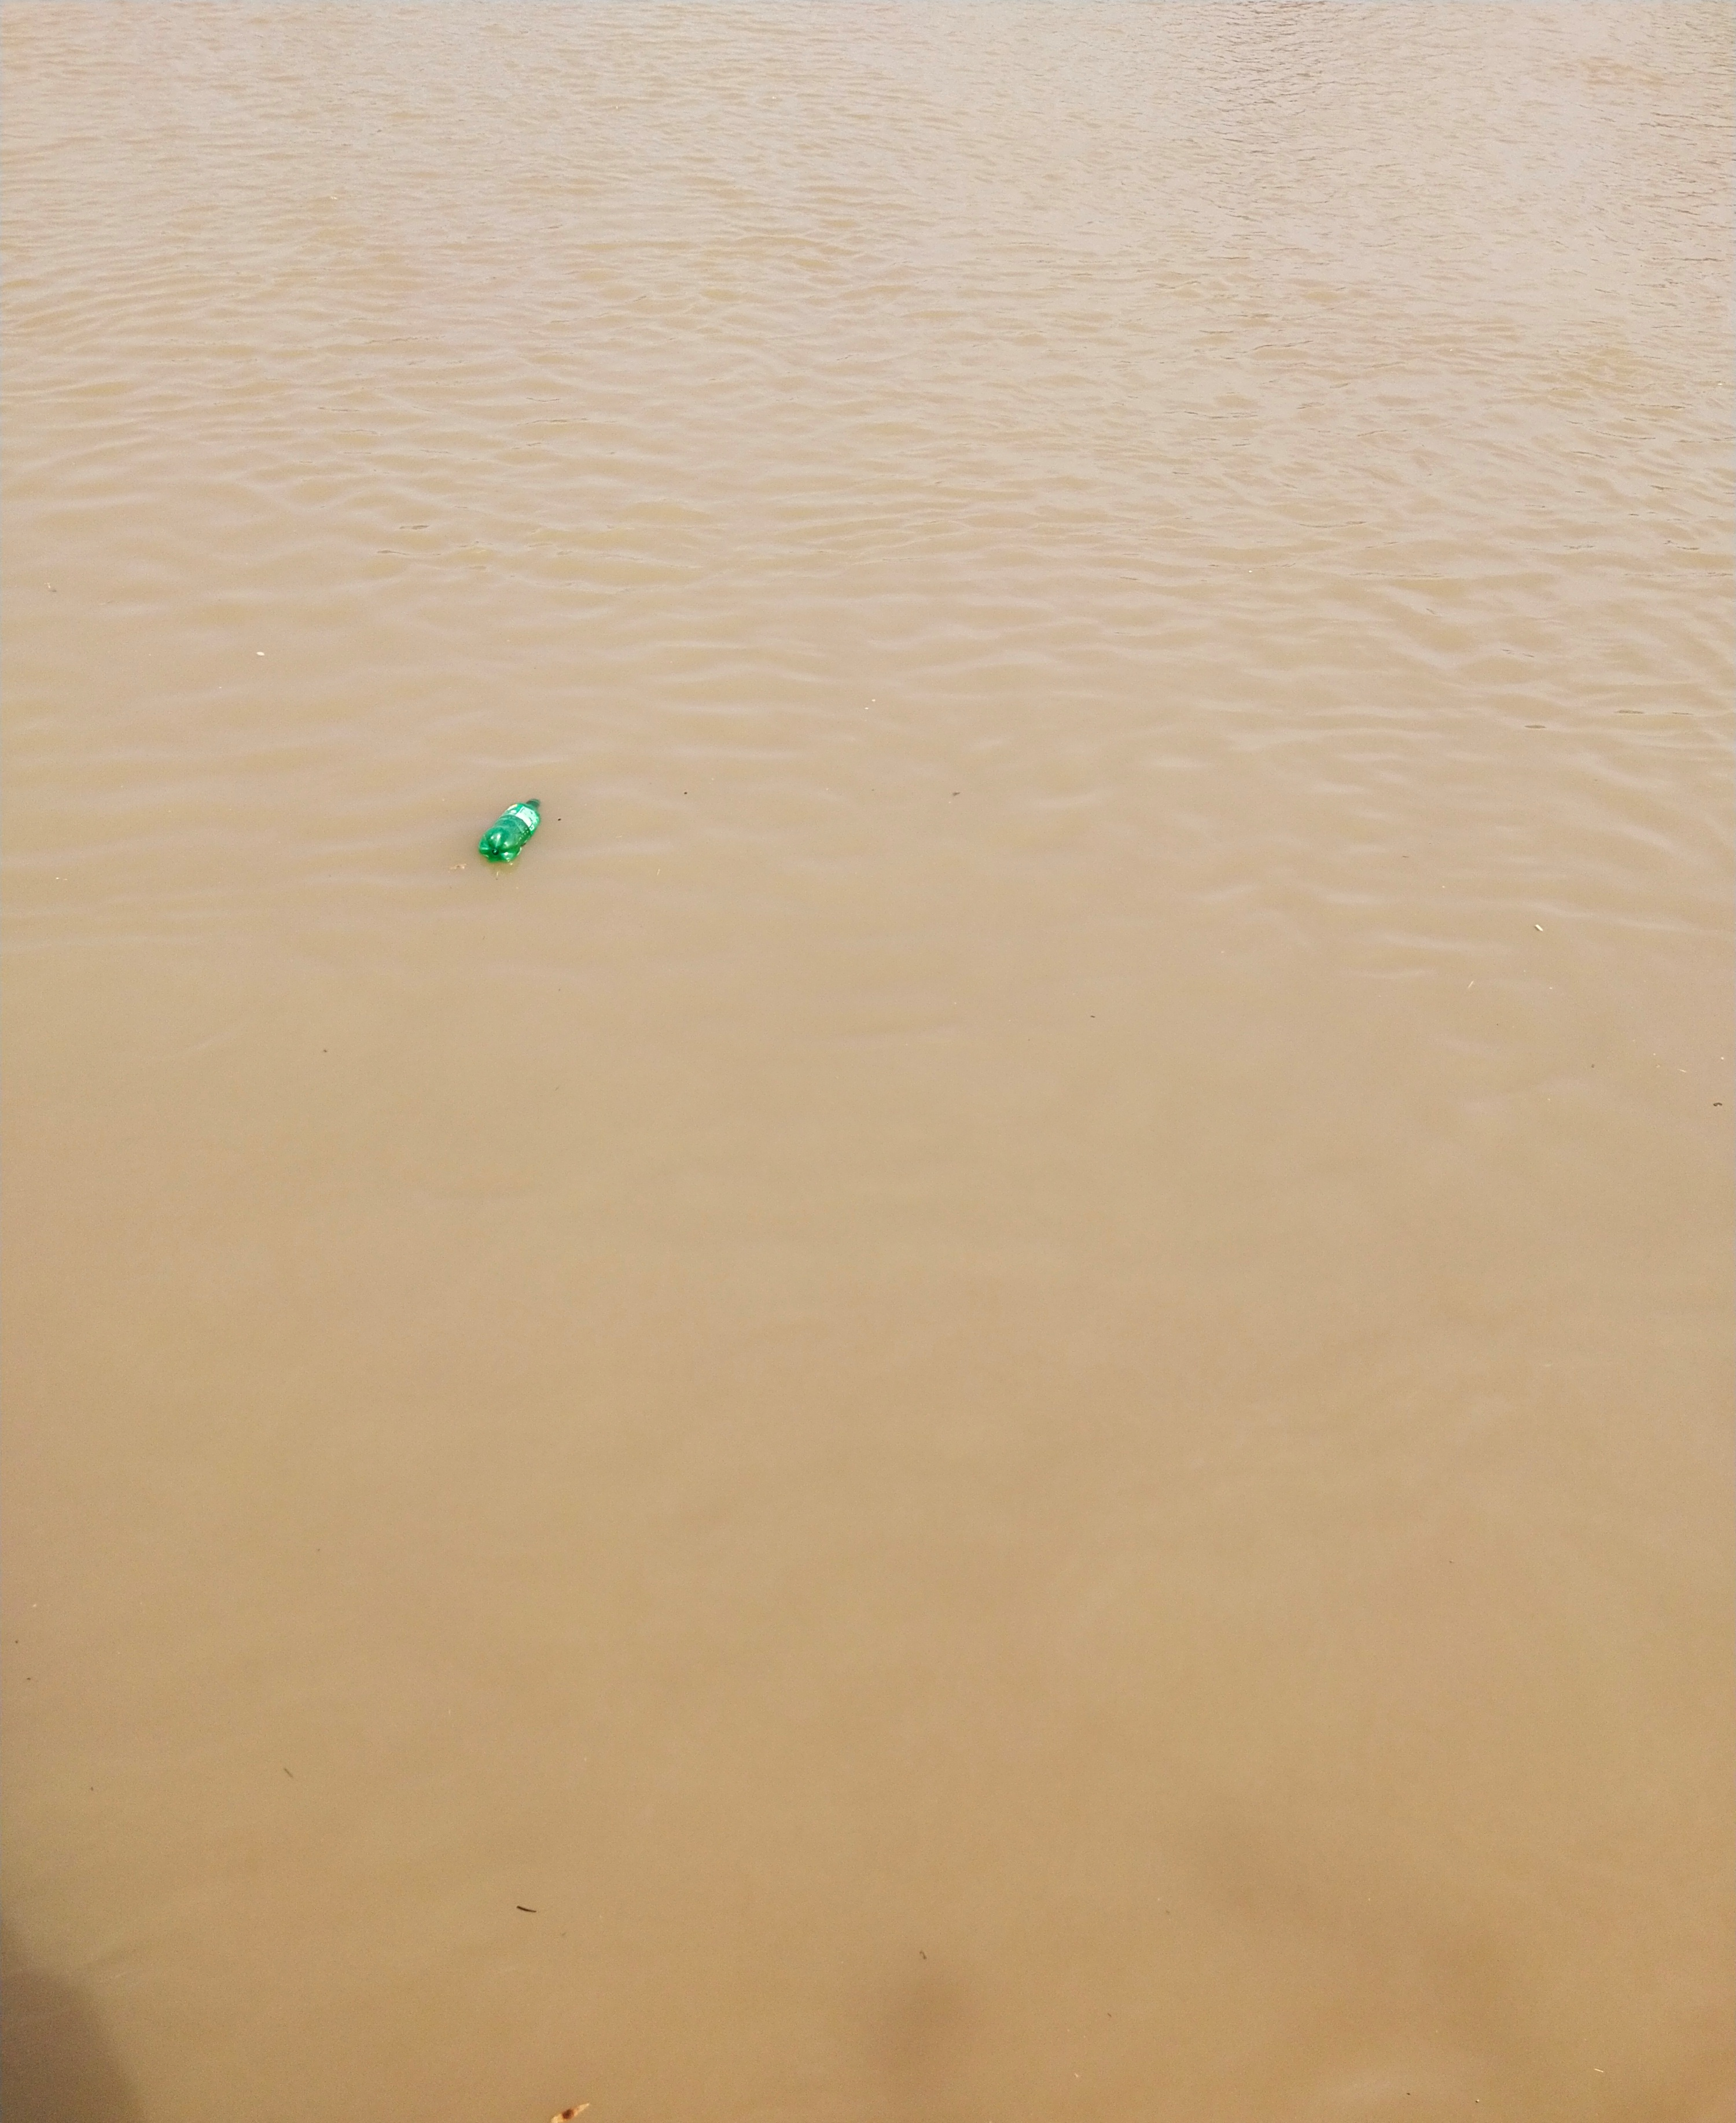Plastic Bottle: (478, 799, 540, 864)
